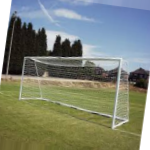goals: (18, 54, 131, 130)
